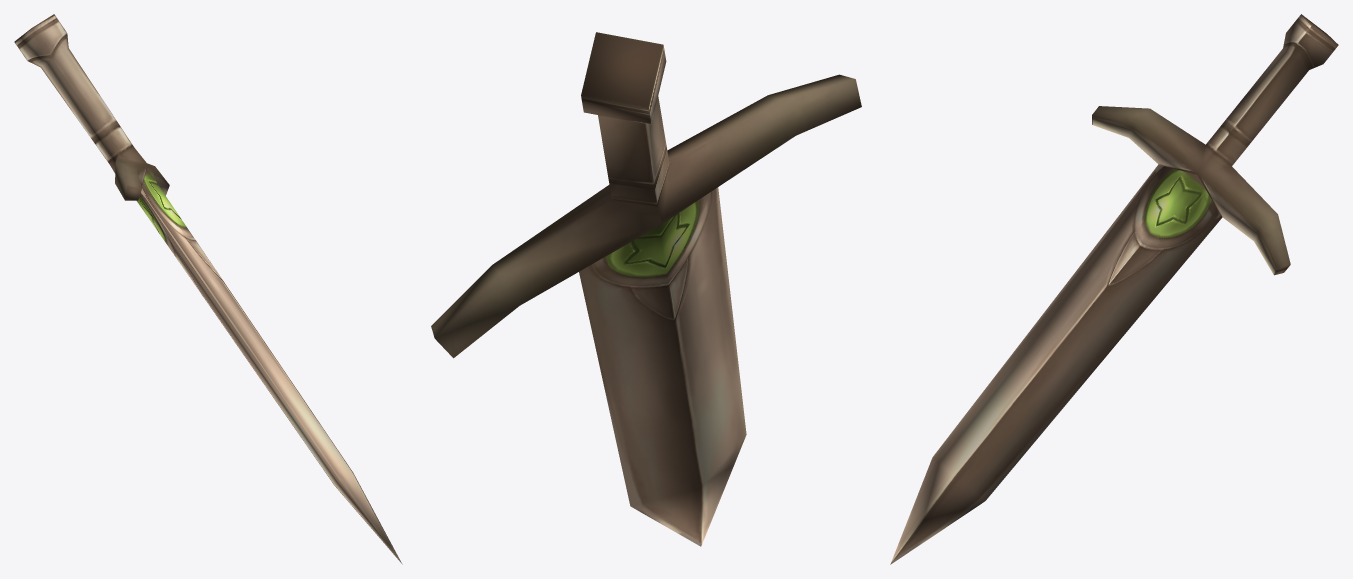
Rendered from Sword(5).obj.
3 views of the same model, side by side, from view 1: azimuth 30°, elevation 25°; view 2: azimuth 150°, elevation 25°; view 3: azimuth 270°, elevation 25° (orthographic). The views are drawn at different scales.
Visible parts, largest first — view 1: sword1_LOD003; view 2: sword1_LOD003; view 3: sword1_LOD003.
Part boxes in pixels (x1,y1,x2,y2): sword1_LOD003: (14, 14, 402, 564); sword1_LOD003: (431, 32, 861, 546); sword1_LOD003: (890, 14, 1338, 564).
Bounding box in the file's own units: 0.4398 × 1.02 × 0.8953.
